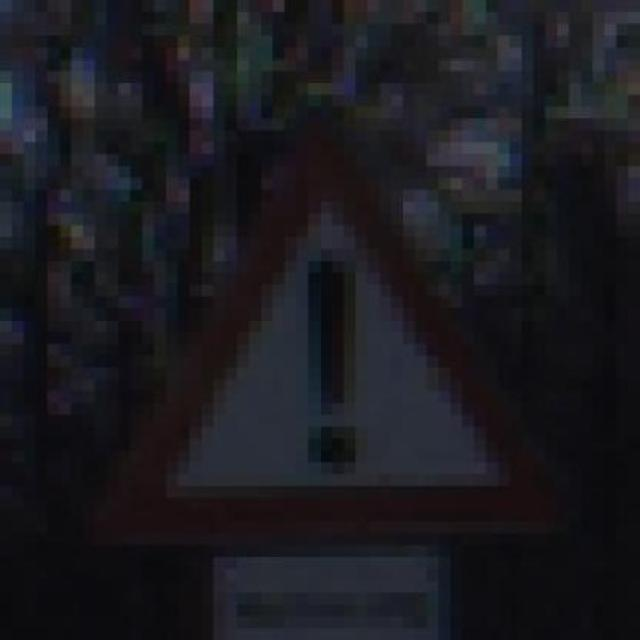Attention Please-: (47, 130, 593, 581)
